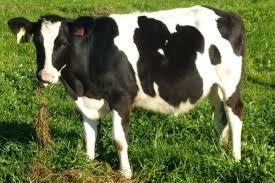cow: (8, 4, 246, 179)
